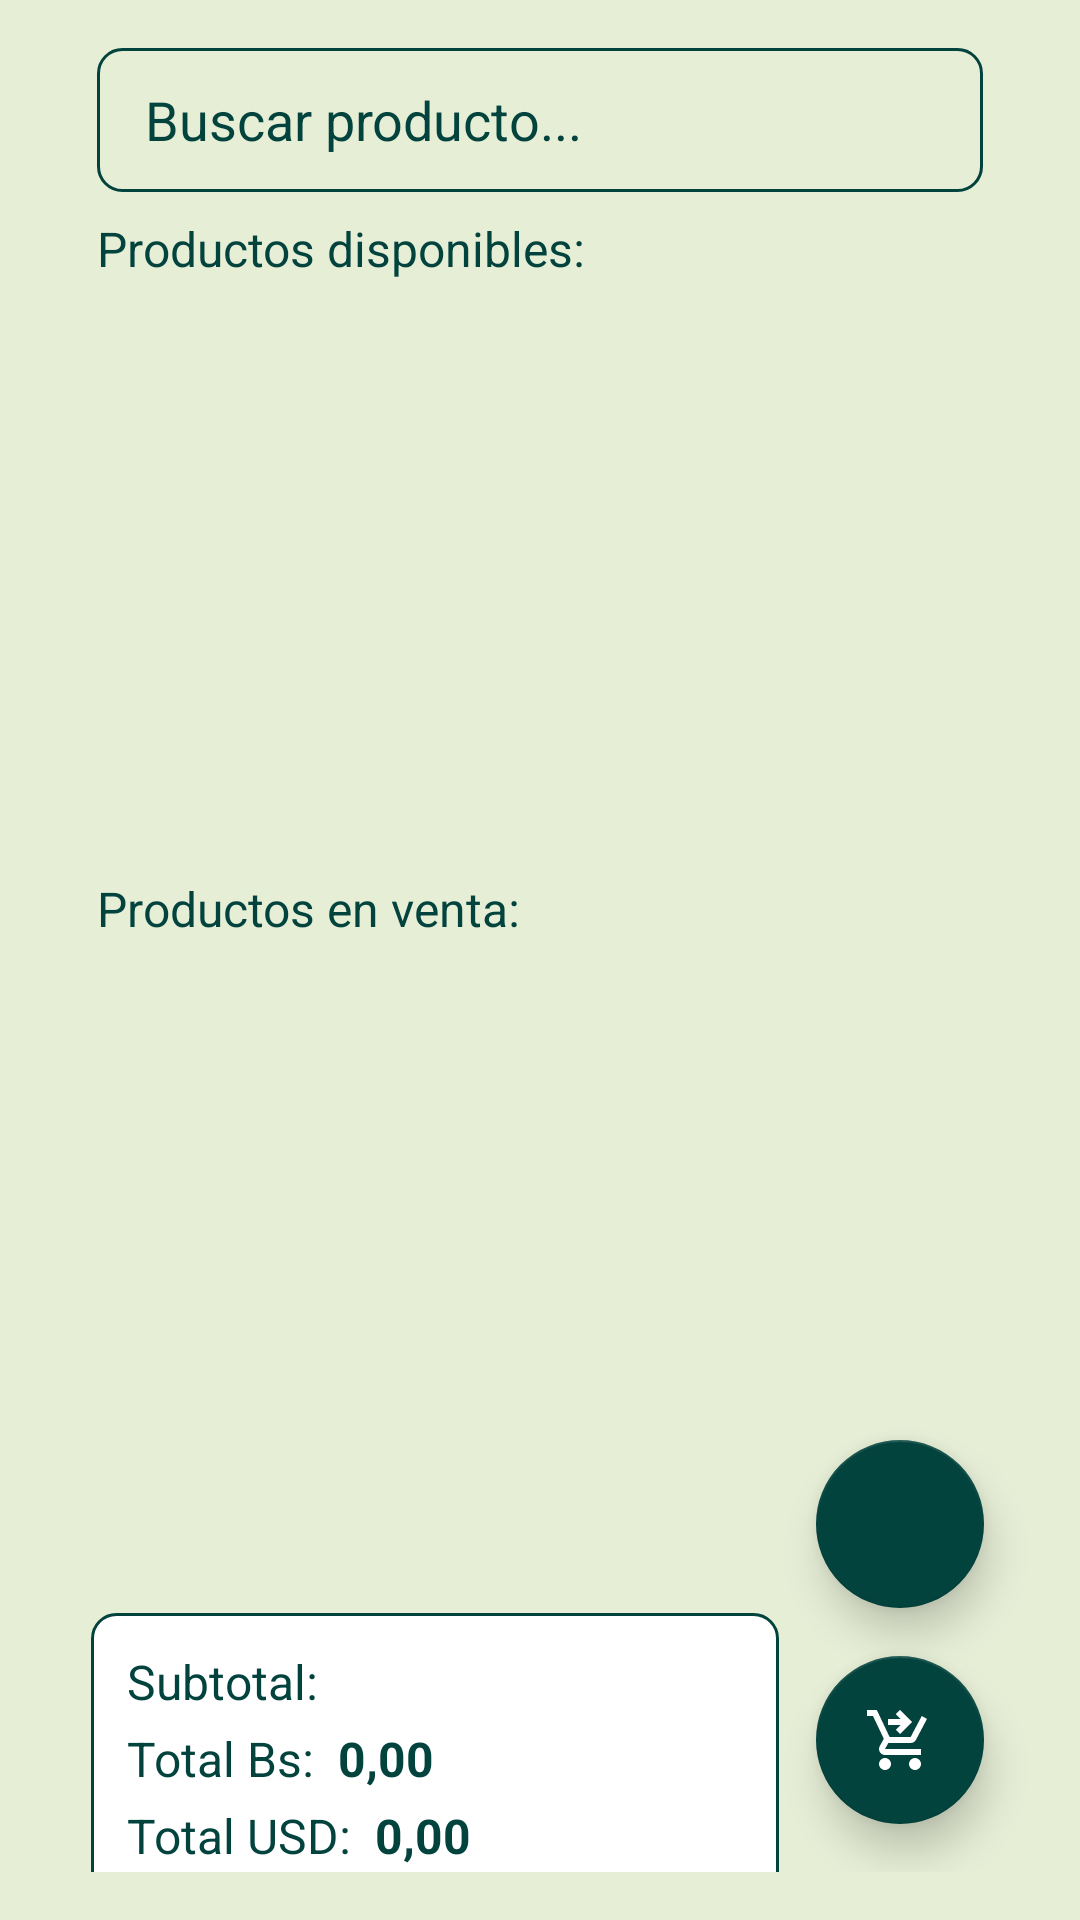

Named icons in this screenshot (1080px×1920px) and their bounding boxes, bbox=(x1, y1, x2, y2):
Registrar Venta: bbox=(816, 1656, 984, 1824)
